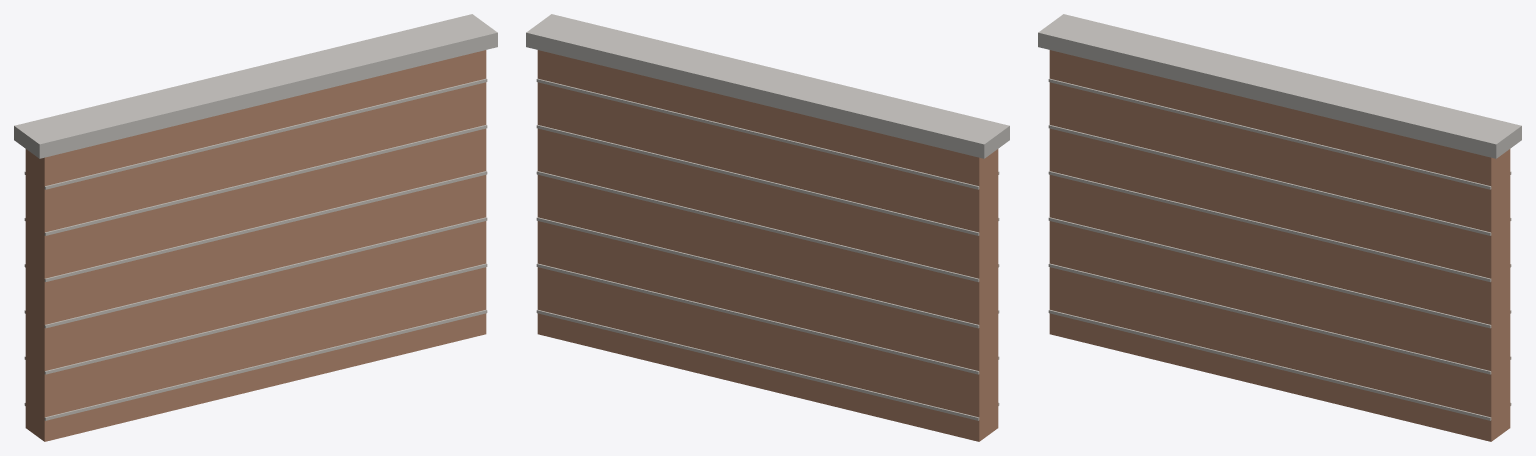
File: low-wall.glb
The picture shows the model from 3 angles, left to right: view 1: azimuth 30°, elevation 25°; view 2: azimuth 150°, elevation 25°; view 3: azimuth 330°, elevation 25°; orthographic projection.
Visible parts, largest first — view 1: wall; view 2: wall; view 3: wall.
Part boxes in pixels (x1,y1,x2,y2): wall: (14, 14, 497, 441); wall: (526, 14, 1009, 441); wall: (1038, 14, 1521, 441).
Bounding box in the file's own units: 1.66 × 1.04 × 0.16.
